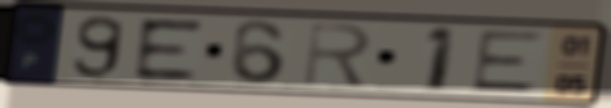1: (421, 24, 457, 95)
6: (227, 18, 291, 88)
9: (68, 13, 127, 80)
E: (467, 29, 550, 95), (132, 17, 208, 81)
R: (299, 20, 377, 89)
